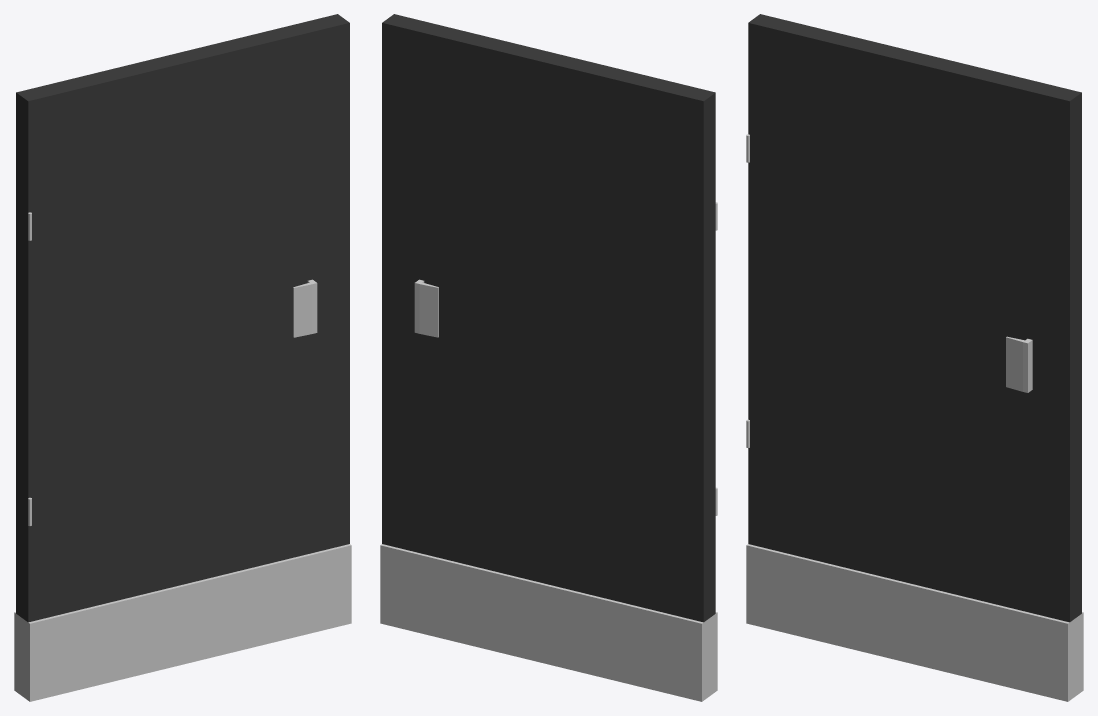
The model's file is P_Door_Double_1.fbx.
The picture shows the model from 3 angles, left to right: view 1: azimuth 30°, elevation 25°; view 2: azimuth 150°, elevation 25°; view 3: azimuth 330°, elevation 25°; orthographic projection.
Visible parts, largest first — view 1: P_Door_Double_1; view 2: P_Door_Double_1; view 3: P_Door_Double_1.
Boxes of the visible parts, x1,y1,x2,y2 form: P_Door_Double_1: (14,14,351,701); P_Door_Double_1: (380,14,717,701); P_Door_Double_1: (746,14,1083,701).
Size of the model in its own units: 661 by 1174 by 75.62.
